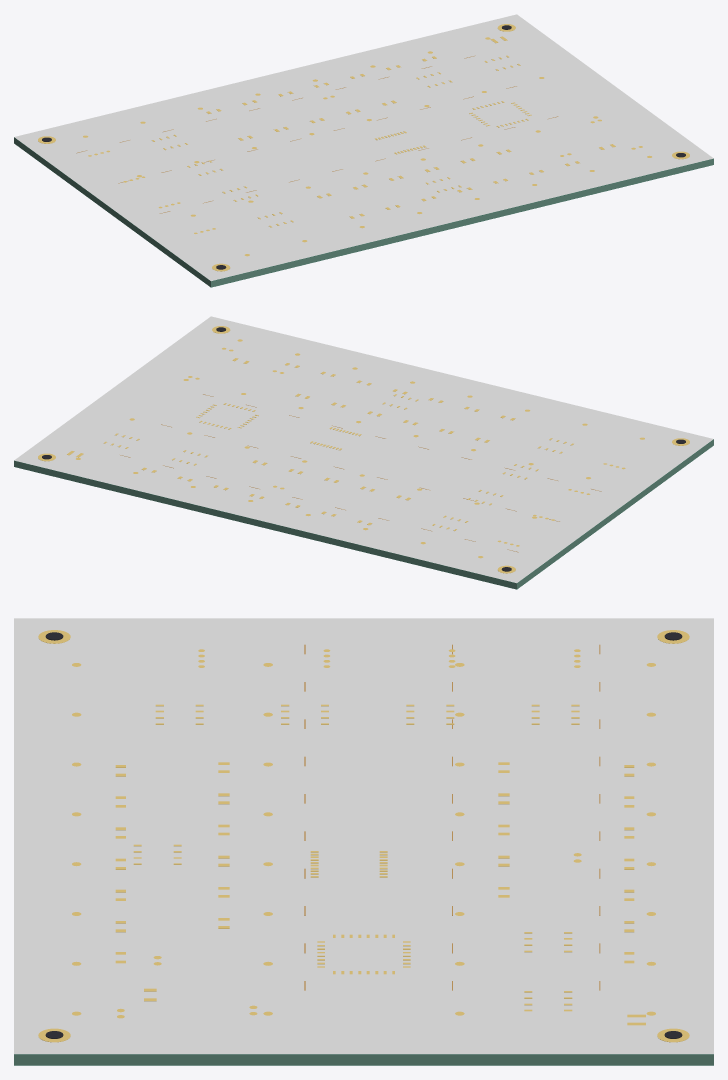
Rendered from 00_L96_SMX4_PCB_140x95mm_Empty.fbx.
The picture shows the model from 3 angles, top to bottom: view 1: azimuth 30°, elevation 25°; view 2: azimuth 150°, elevation 25°; view 3: azimuth 270°, elevation 25°; orthographic projection. The views are drawn at different scales.
Visible parts, largest first — view 1: L96_SMX4_PCB_140x95mm_Empty_259_PCB_FactoryScreen_PrintArtwo, L96_SMX4_PCB_140x95mm_Empty_000_FR4_Substrate_1p6mm; view 2: L96_SMX4_PCB_140x95mm_Empty_259_PCB_FactoryScreen_PrintArtwo, L96_SMX4_PCB_140x95mm_Empty_000_FR4_Substrate_1p6mm; view 3: L96_SMX4_PCB_140x95mm_Empty_259_PCB_FactoryScreen_PrintArtwo, L96_SMX4_PCB_140x95mm_Empty_000_FR4_Substrate_1p6mm, L96_SMX4_PCB_140x95mm_Empty_001_Emerald_TopSoldermask, L96_SMX4_PCB_140x95mm_Empty_002_Emerald_BottomSoldermask.
Boxes of the visible parts, x1,y1,x2,y2 form: L96_SMX4_PCB_140x95mm_Empty_259_PCB_FactoryScreen_PrintArtwo: (14,14,713,281); L96_SMX4_PCB_140x95mm_Empty_000_FR4_Substrate_1p6mm: (14,137,713,287); L96_SMX4_PCB_140x95mm_Empty_259_PCB_FactoryScreen_PrintArtwo: (14,316,713,583); L96_SMX4_PCB_140x95mm_Empty_000_FR4_Substrate_1p6mm: (14,439,713,589); L96_SMX4_PCB_140x95mm_Empty_259_PCB_FactoryScreen_PrintArtwo: (14,618,713,1054); L96_SMX4_PCB_140x95mm_Empty_000_FR4_Substrate_1p6mm: (14,1054,713,1065); L96_SMX4_PCB_140x95mm_Empty_001_Emerald_TopSoldermask: (14,1054,713,1054); L96_SMX4_PCB_140x95mm_Empty_002_Emerald_BottomSoldermask: (14,1065,713,1065).
Size of the model in its own units: 14 by 0.1843 by 9.5.
